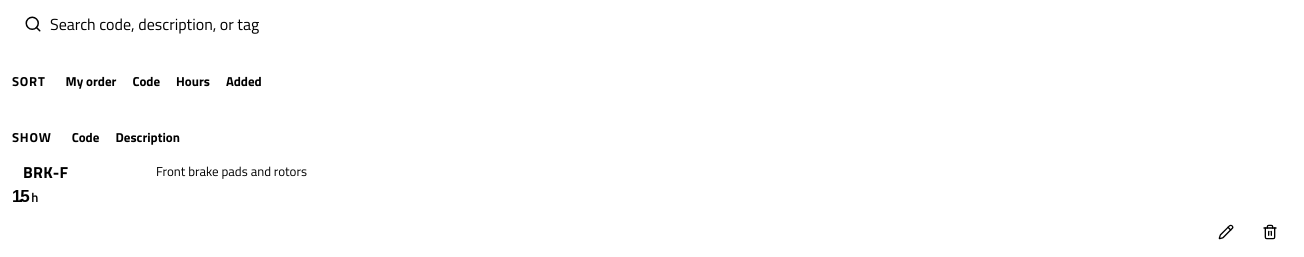
it: op code Code | Description toggle › swaps primary and secondary when Description is picked
This screenshot has width=1304, height=257.
Click the button "Description" at [148, 138], box [108,116,188,160]
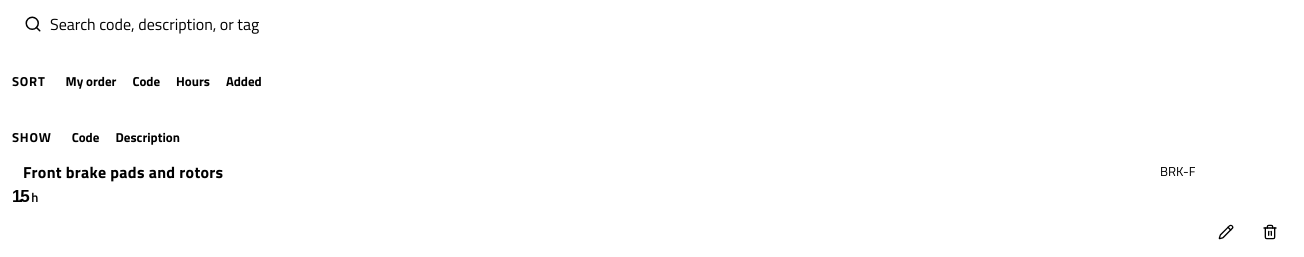
Expected: the text "Front brake pads and rotors" is shown, [23,160,224,184]
Expected: the text "BRK-F" is shown, [1160,162,1196,182]
